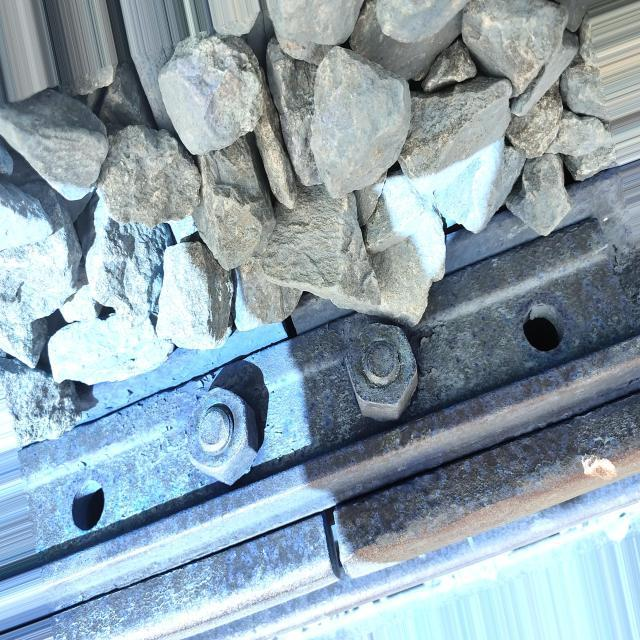Defective Joint: (0, 192, 640, 640)
